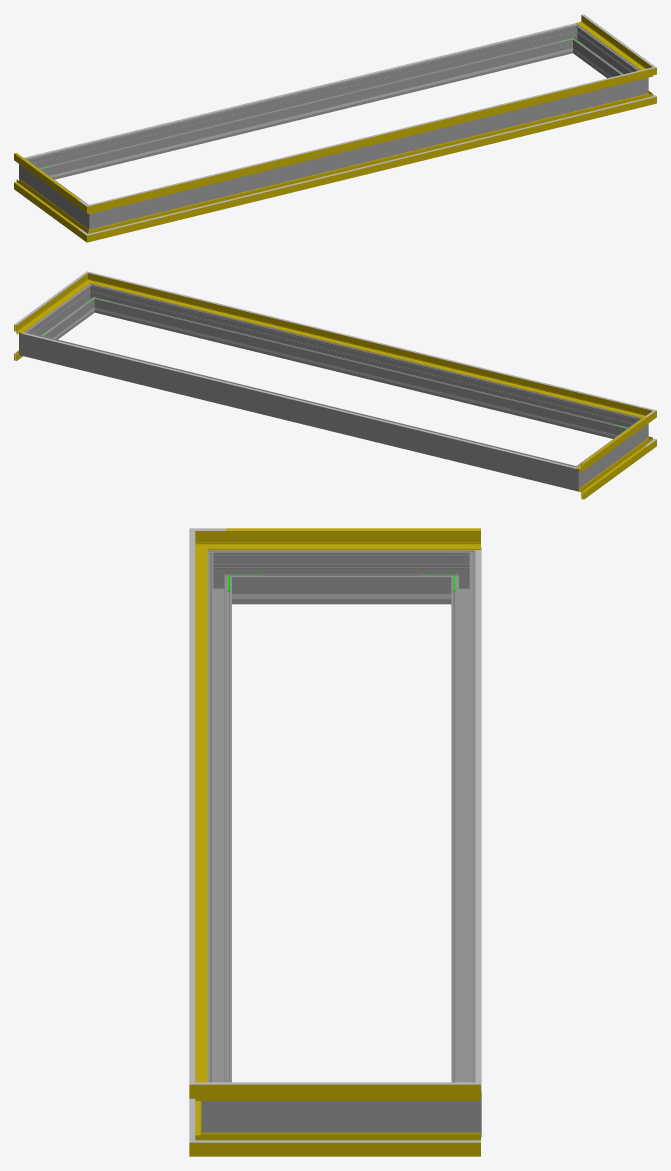
The picture shows the model from 3 angles, top to bottom: view 1: azimuth 30°, elevation 25°; view 2: azimuth 150°, elevation 25°; view 3: azimuth 270°, elevation 25°; orthographic projection. The views are drawn at different scales.
Visible parts, largest first — view 1: 3DGeom-276, 3DGeom-298, 3DGeom-90, 3DGeom-56, 3DGeom-244, 3DGeom-297, 3DGeom-220, 3DGeom-66, 3DGeom-100, 3DGeom-268, 3DGeom-85, 3DGeom-58 (+3 smaller); view 2: 3DGeom-298, 3DGeom-276, 3DGeom-56, 3DGeom-239, 3DGeom-297, 3DGeom-220, 3DGeom-66, 3DGeom-85, 3DGeom-268, 3DGeom-58, 3DGeom-278, 3DGeom-50 (+2 smaller); view 3: 3DGeom-276, 3DGeom-298, 3DGeom-268, 3DGeom-56, 3DGeom-297, 3DGeom-97, 3DGeom-50, 3DGeom-58, 3DGeom-220, 3DGeom-66, 3DGeom-284, 3DGeom-278 (+4 smaller).
Boxes of the visible parts, left/top/right/bottom form: 3DGeom-276: left=36, top=27, right=570, bottom=179; 3DGeom-298: left=105, top=81, right=632, bottom=225; 3DGeom-90: left=100, top=96, right=640, bottom=238; 3DGeom-56: left=101, top=71, right=640, bottom=210; 3DGeom-244: left=55, top=52, right=557, bottom=176; 3DGeom-297: left=574, top=30, right=636, bottom=78; 3DGeom-220: left=24, top=23, right=576, bottom=158; 3DGeom-66: left=101, top=70, right=640, bottom=202; 3DGeom-100: left=101, top=99, right=640, bottom=231; 3DGeom-268: left=28, top=164, right=84, bottom=222; 3DGeom-85: left=14, top=178, right=82, bottom=235; 3DGeom-58: left=576, top=15, right=645, bottom=69; 3DGeom-298: left=97, top=286, right=631, bottom=438; 3DGeom-276: left=35, top=334, right=565, bottom=487; 3DGeom-56: left=98, top=276, right=639, bottom=416; 3DGeom-239: left=110, top=311, right=612, bottom=436; 3DGeom-297: left=31, top=289, right=93, bottom=339; 3DGeom-220: left=22, top=332, right=576, bottom=468; 3DGeom-66: left=102, top=275, right=640, bottom=407; 3DGeom-85: left=578, top=442, right=647, bottom=499; 3DGeom-268: left=583, top=423, right=639, bottom=481; 3DGeom-58: left=14, top=279, right=85, bottom=334; 3DGeom-278: left=562, top=461, right=587, bottom=491; 3DGeom-50: left=576, top=417, right=647, bottom=472; 3DGeom-276: left=451, top=563, right=475, bottom=1082; 3DGeom-298: left=207, top=563, right=231, bottom=1082; 3DGeom-268: left=238, top=550, right=445, bottom=604; 3DGeom-56: left=195, top=556, right=207, bottom=1082; 3DGeom-297: left=238, top=1101, right=445, bottom=1132; 3DGeom-97: left=225, top=1132, right=480, bottom=1156; 3DGeom-50: left=225, top=531, right=480, bottom=549; 3DGeom-58: left=225, top=1084, right=480, bottom=1100; 3DGeom-220: left=475, top=549, right=481, bottom=1091; 3DGeom-66: left=189, top=544, right=195, bottom=1069; 3DGeom-284: left=445, top=1078, right=481, bottom=1137; 3DGeom-278: left=445, top=547, right=481, bottom=604.
Size of the model in its own units: 5.49 by 0.3303 by 1.22.
